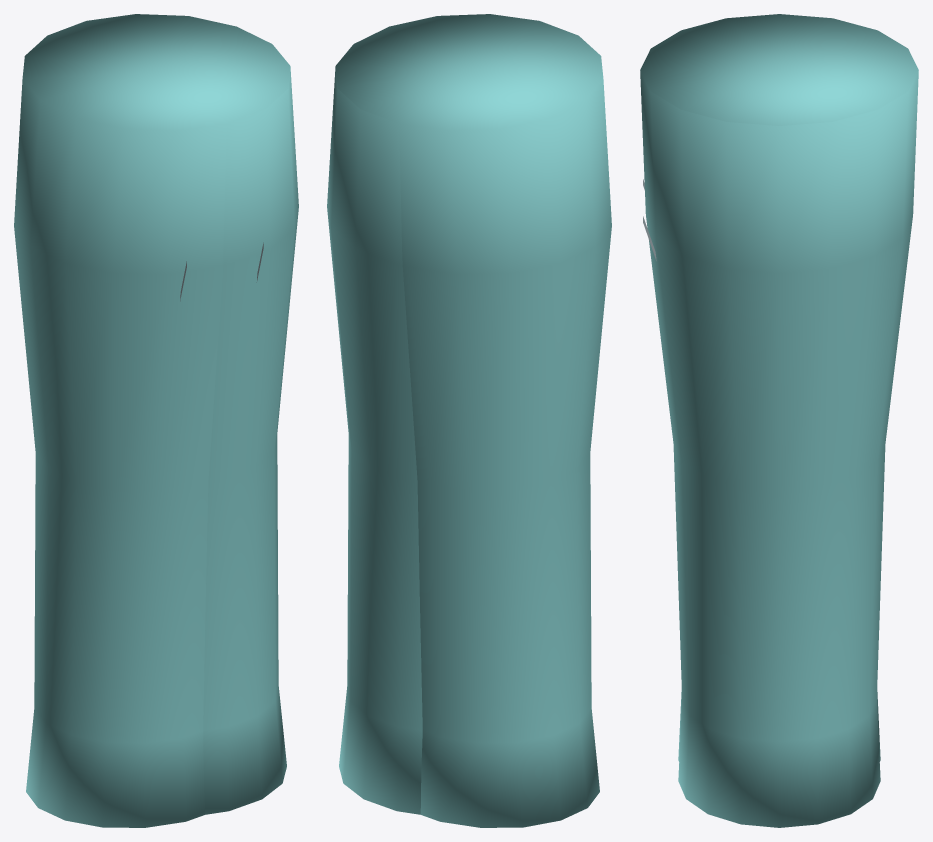
The model's file is pants.glb.
3 renders of one model, left to right at view 1: azimuth 30°, elevation 25°; view 2: azimuth 150°, elevation 25°; view 3: azimuth 270°, elevation 25°, orthographic.
Visible parts, largest first — view 1: trouser_leg (×2); view 2: trouser_leg (×2); view 3: trouser_leg (×2).
Part boxes in pixels (x1,y1,x2,y2): trouser_leg (×2): (14, 14, 298, 827); trouser_leg (×2): (327, 14, 611, 827); trouser_leg (×2): (640, 14, 918, 827).
Bounding box in the file's own units: 0.302 × 0.81 × 0.292.
